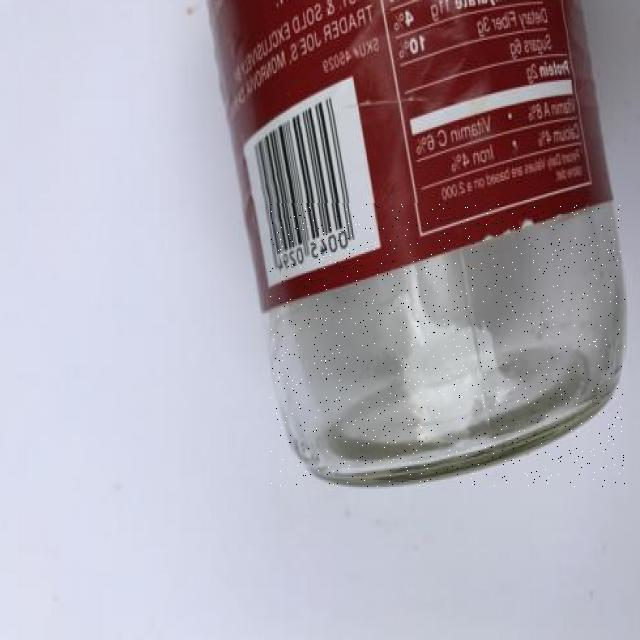glass: (271, 203, 625, 487)
